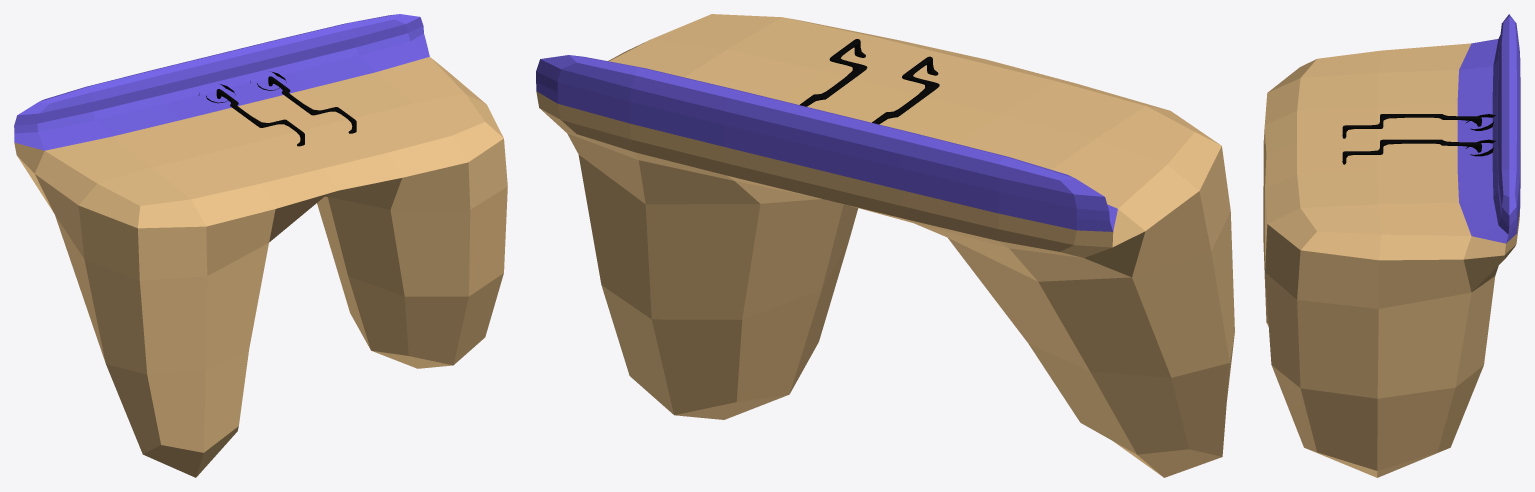
The model's file is badebukser.fbx.
The picture shows the model from 3 angles, left to right: view 1: azimuth 30°, elevation 25°; view 2: azimuth 150°, elevation 25°; view 3: azimuth 270°, elevation 25°; orthographic projection. The views are drawn at different scales.
Parts seen in each view (by area): view 1: Cube.019; view 2: Cube.019; view 3: Cube.019.
Part boxes in pixels (box(x1,y1,x2,y2)): Cube.019: box(14, 14, 507, 477); Cube.019: box(536, 14, 1234, 477); Cube.019: box(1263, 14, 1520, 477).
Size of the model in its own units: 133 by 94.99 by 69.71.
